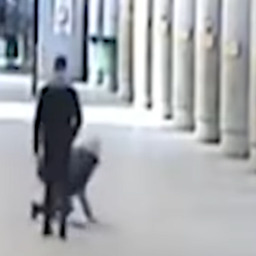person: (33, 56, 82, 238), (31, 136, 101, 226)
